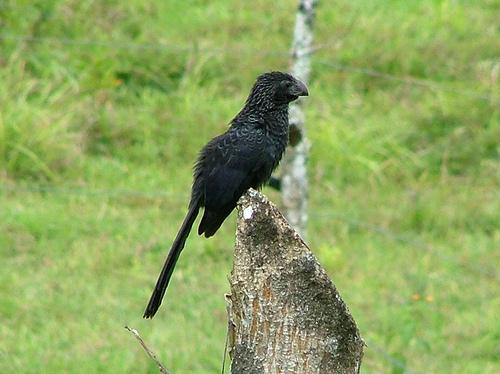004.Groove_billed_Ani: (143, 71, 313, 320)
